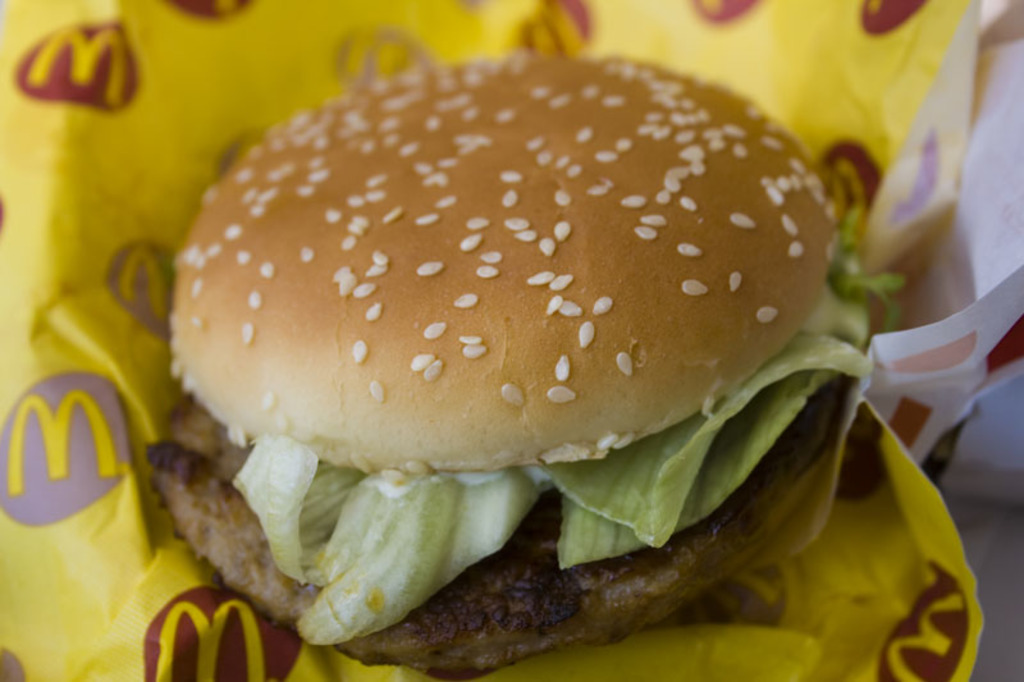Hamburger: (143, 52, 903, 680)
